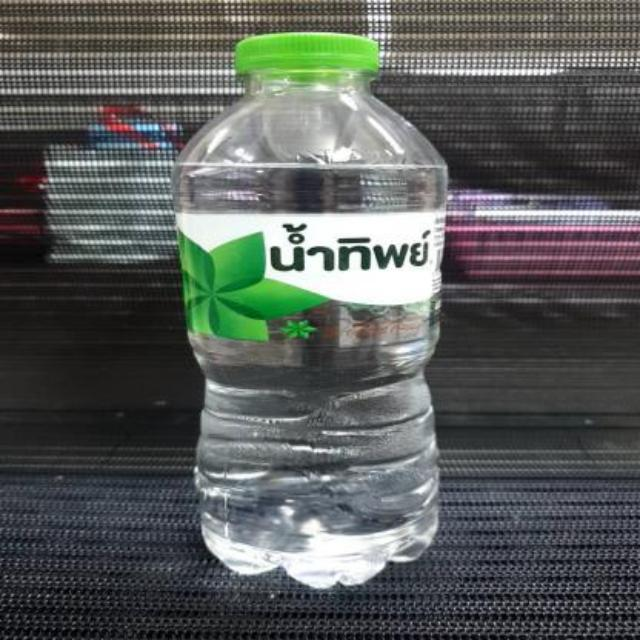bottle: (158, 30, 462, 602)
